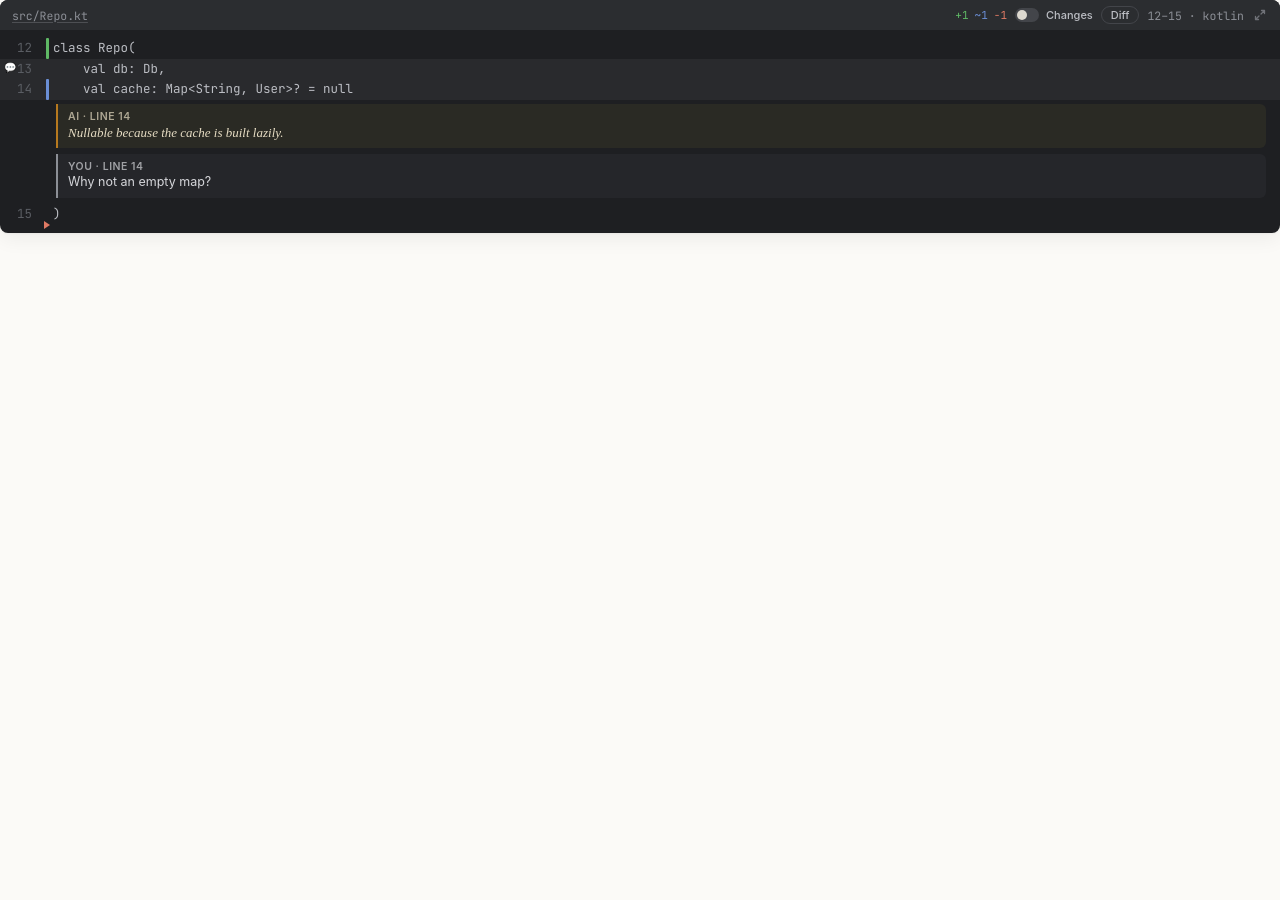
Scenario: CodeBlock changes vs HEAD › opens the diff modal on a clicked change, with layout and scope toggles
The width and height of the screenshot is (1280, 900).
Step 1. Click the button named "Modified line, show the diff" → [48, 90], box [44,79,53,100]
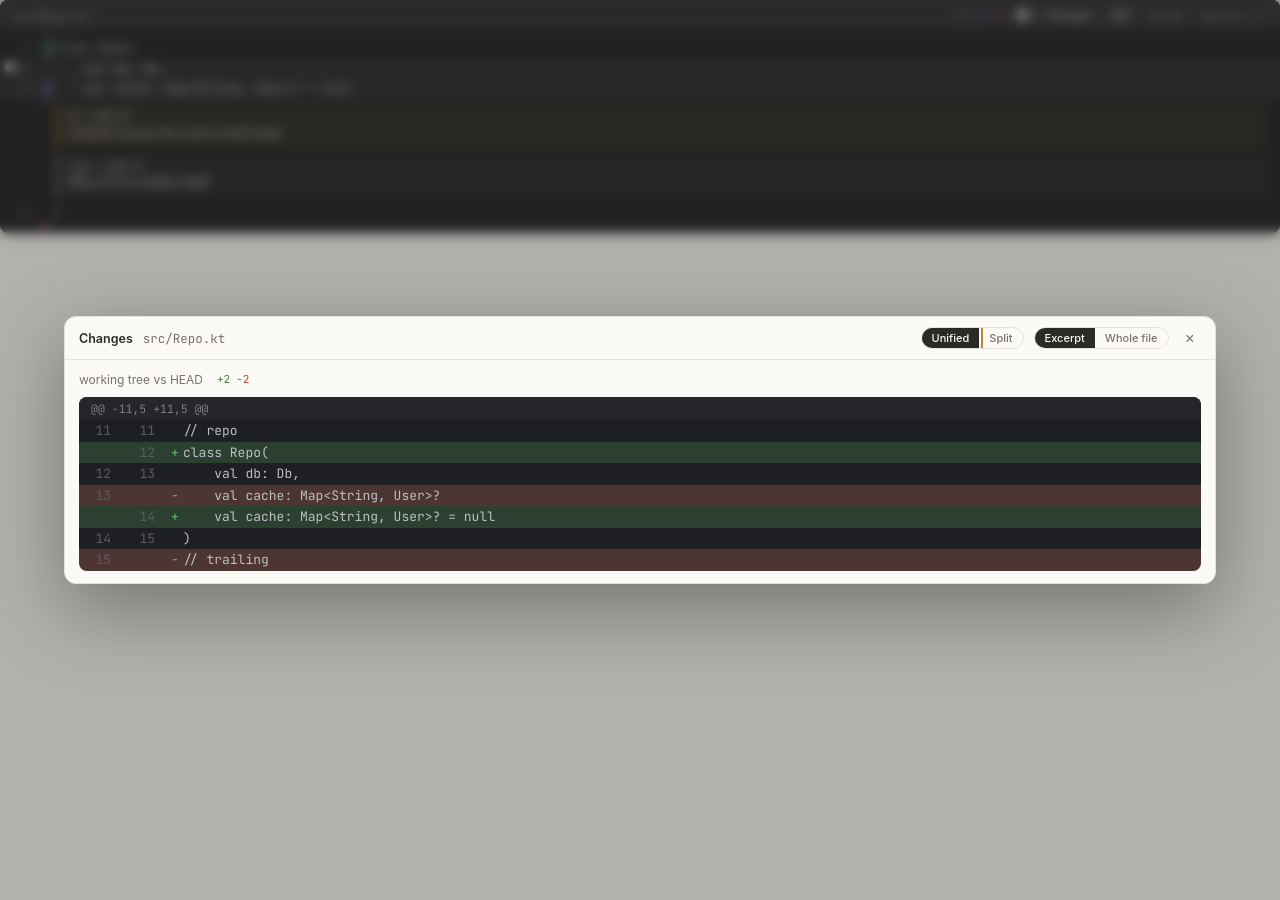
Expected: the text "working tree vs HEAD" is shown, [79,372,203,388]
Expected: the text "+2" is shown, [217,372,230,388]
Expected: the text "−2" is shown, [236,372,249,388]
Step 2. Click the button "Split" → [1001, 338], box [979,328,1023,348]
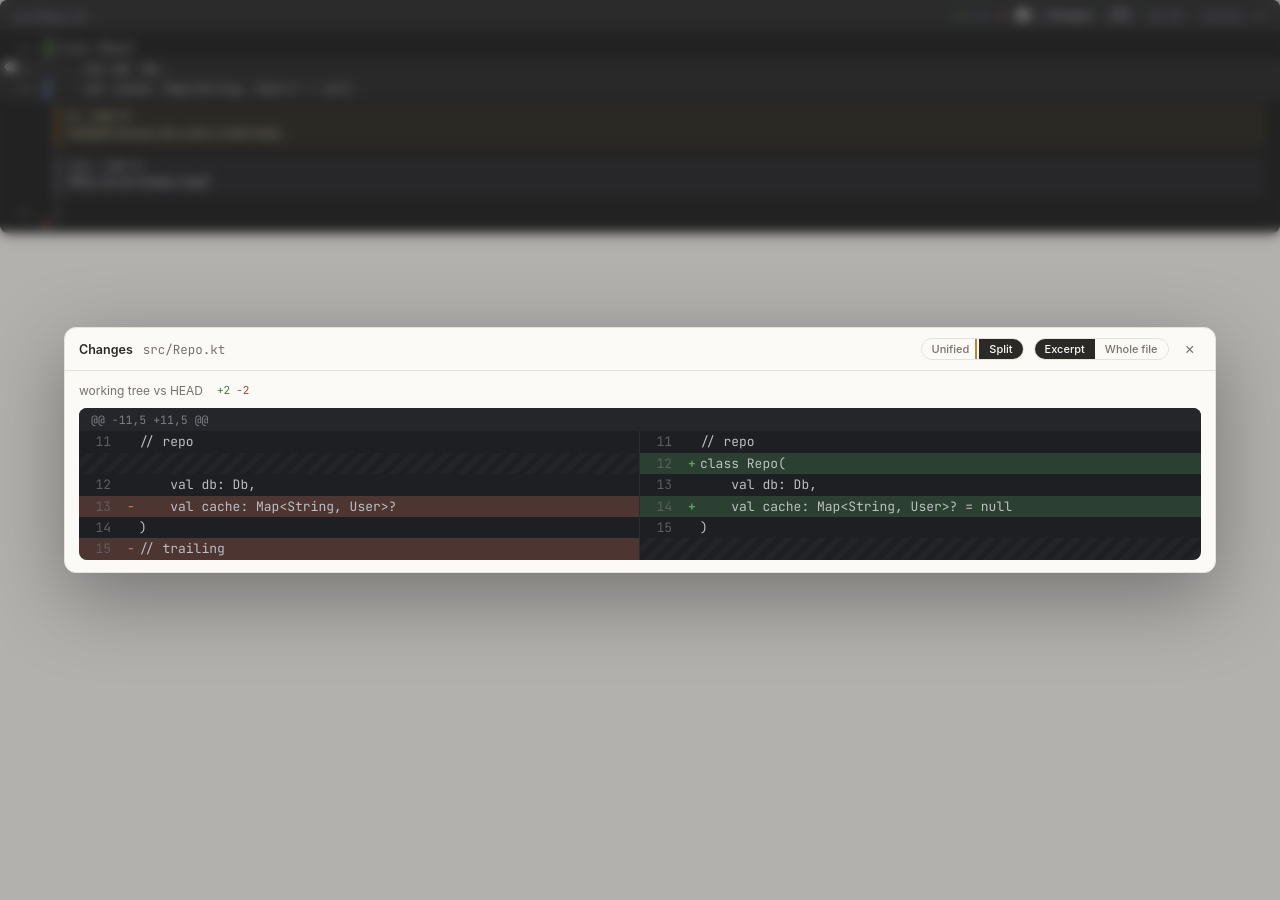
Expected: the number of elements with class "diff-scroll" is 2, [79,431,640,560]; [640,431,1201,560]
Expected: the number of elements with class "is-blank" is 2, [79,453,639,474]; [640,538,1201,560]
Step 3. Click the button "Whole file" → [1131, 349], box [1095,339,1168,359]
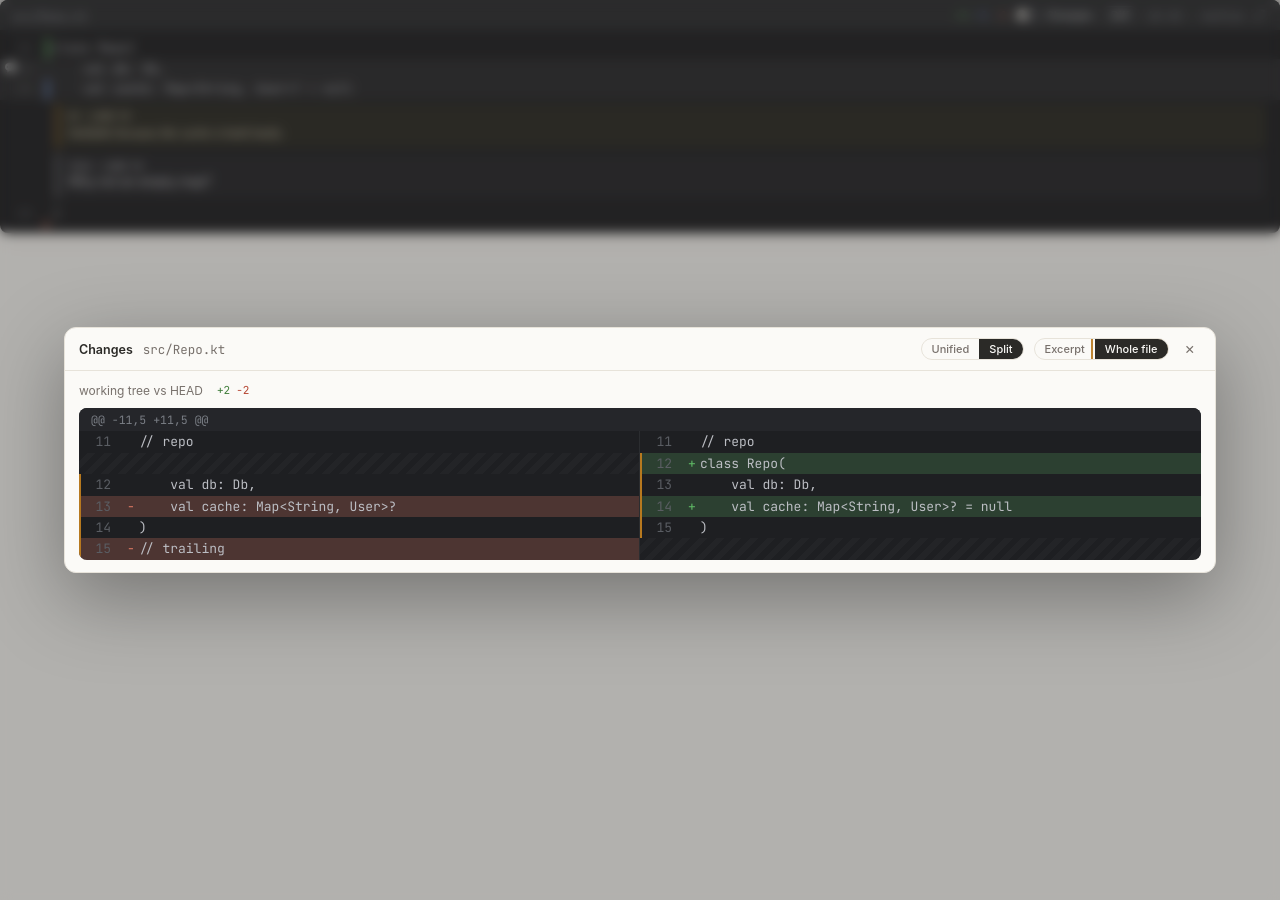
Expected: the element with class "is-excerpt" showing "12 val db: Db," is shown, [79,474,639,496]
Step 4. Click the button named "Close" → [1190, 349], box [1178,340,1201,359]
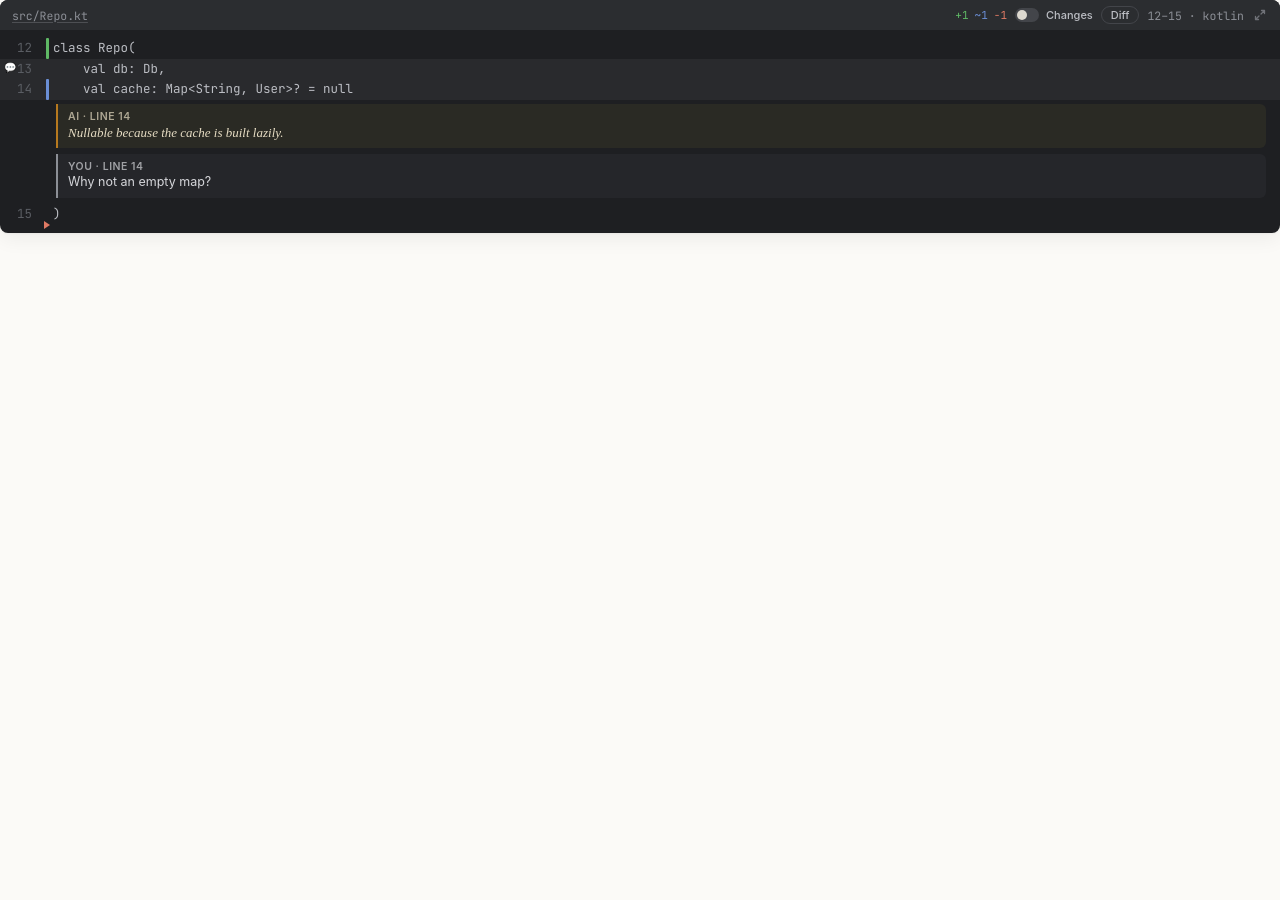
Expected: the dialog is gone
